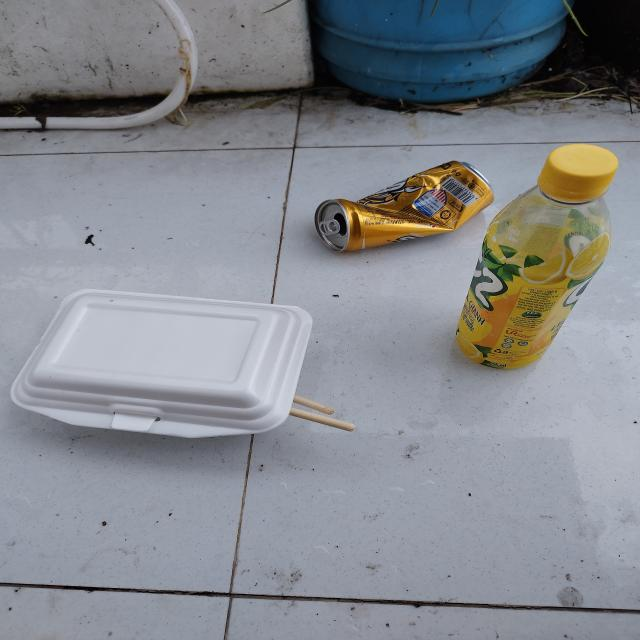bottle: (456, 142, 618, 372)
can: (313, 160, 497, 254)
foam box: (7, 289, 316, 438)
